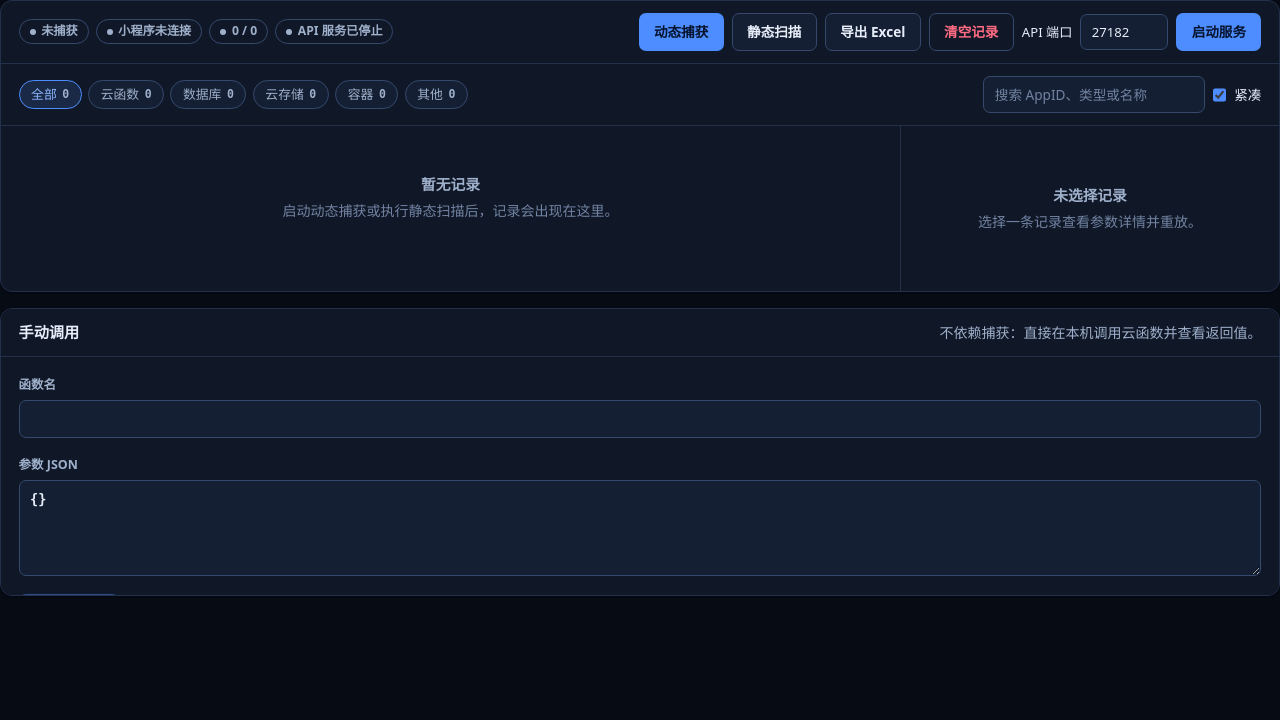
Test: CloudView › starts capture polling, receives events, and stops polling on unmount
Click the button with test id "cloud-capture-toggle" at (681, 32), box [638,13,724,51]
Wait 2200 ms
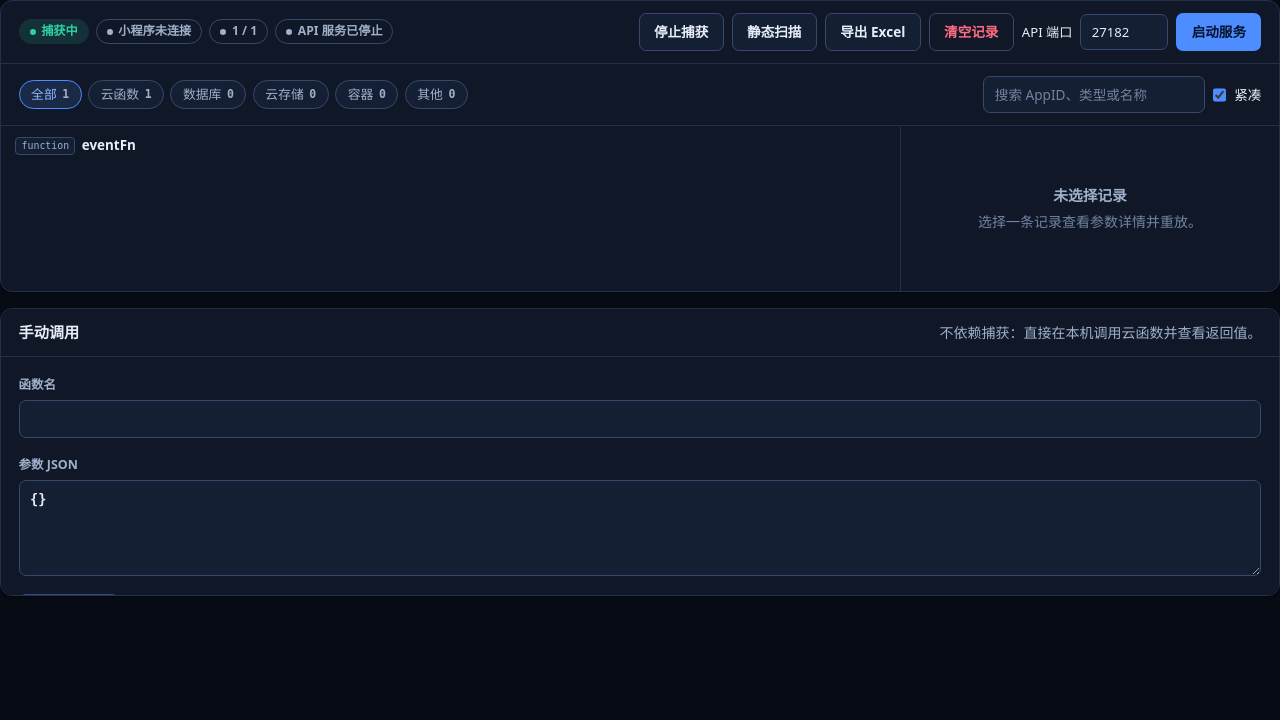
Expected: the text "eventFn" is shown, [82,136,136,156]
